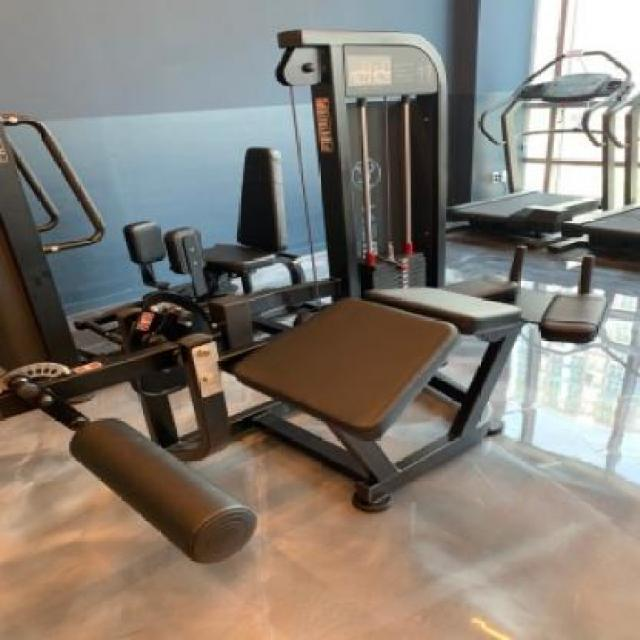reg curl machine: (1, 24, 612, 582)
